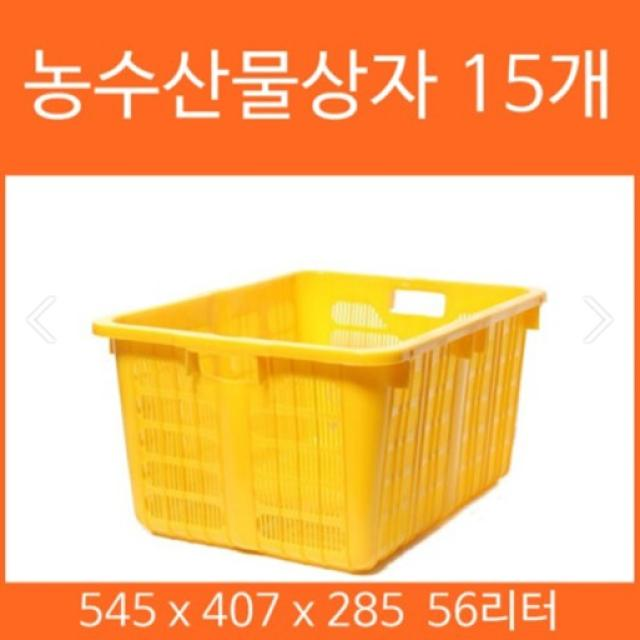basket: (75, 254, 545, 586)
